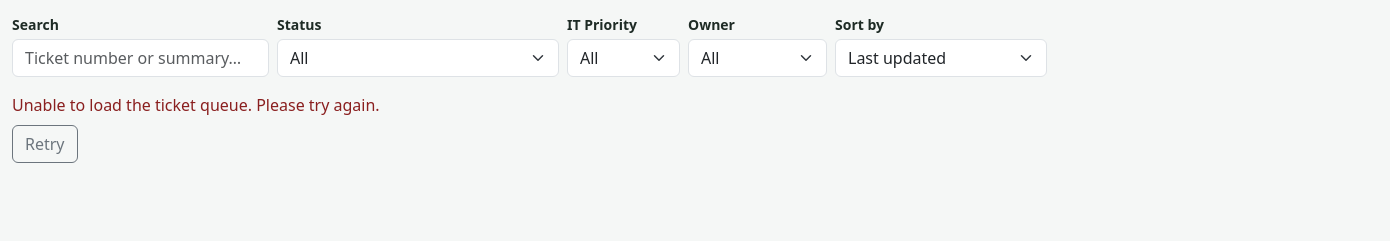
Test: StaffTicketQueue › shows a failure state with a retry action on an unexpected error
This screenshot has width=1390, height=241.
Click the button "Retry": (45, 144) [12, 125, 78, 163]
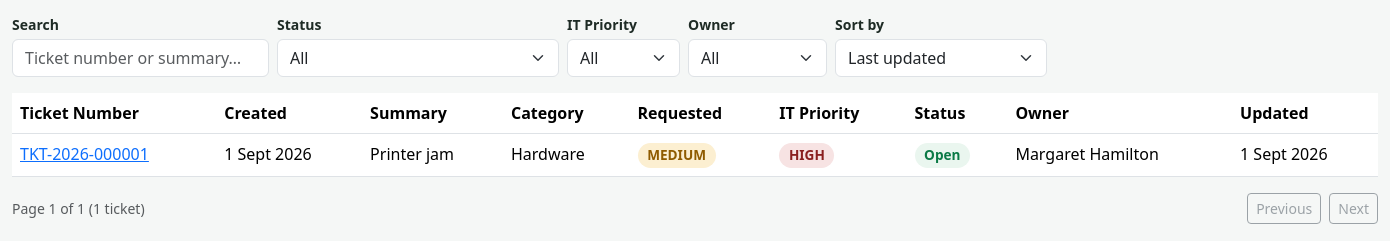
Now the link "TKT-2026-000001" is shown, box [20, 143, 149, 165]
